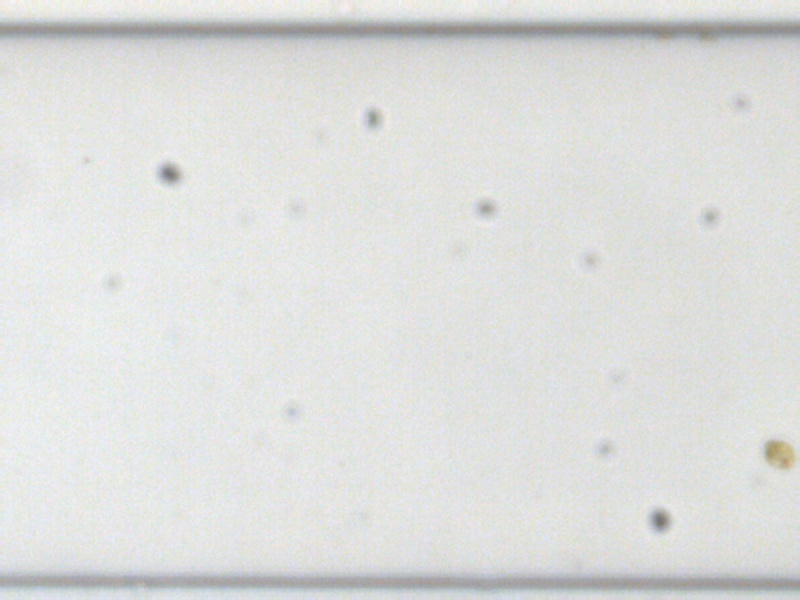Dunaliella salina: (761, 438, 798, 469)
